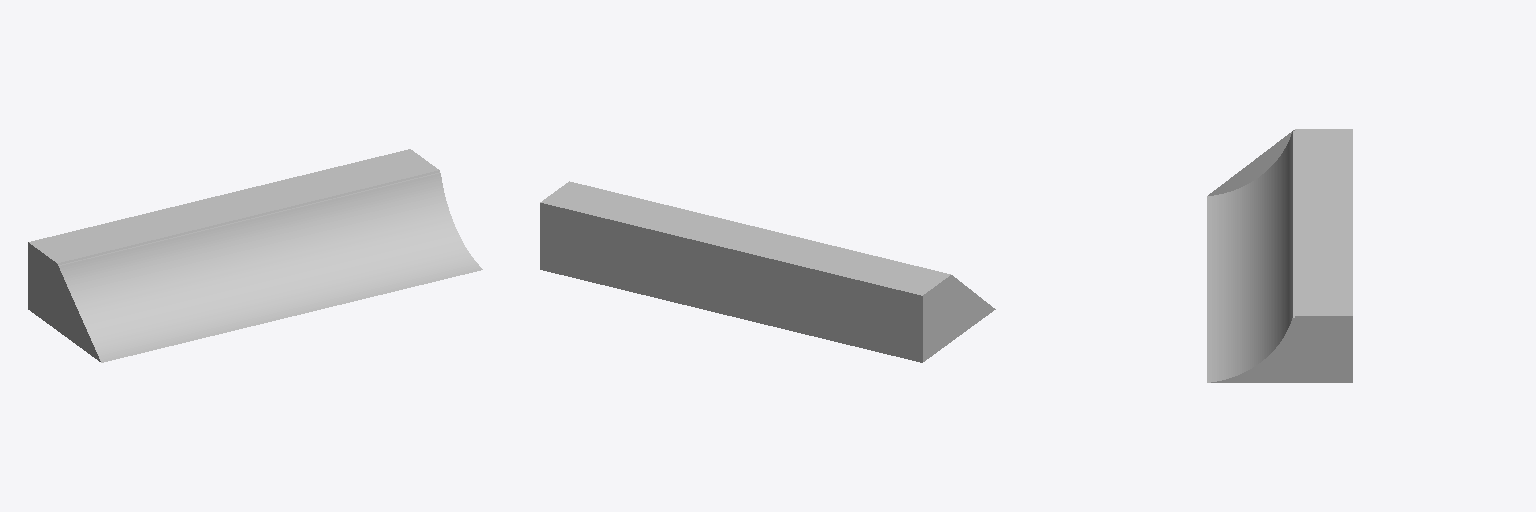
File: quarterend_mini.obj
The picture shows the model from 3 angles: view 1: azimuth 30°, elevation 25°; view 2: azimuth 150°, elevation 25°; view 3: azimuth 270°, elevation 25°; orthographic projection.
Parts seen in each view (by area): view 1: Cube.009; view 2: Cube.009; view 3: Cube.009.
Boxes of the visible parts, box(x1,y1,x2,y2) form: Cube.009: box(28, 149, 482, 362); Cube.009: box(540, 181, 995, 362); Cube.009: box(1207, 129, 1352, 382).
Bounding box in the file's own units: 8.93 × 1.5 × 2.96.